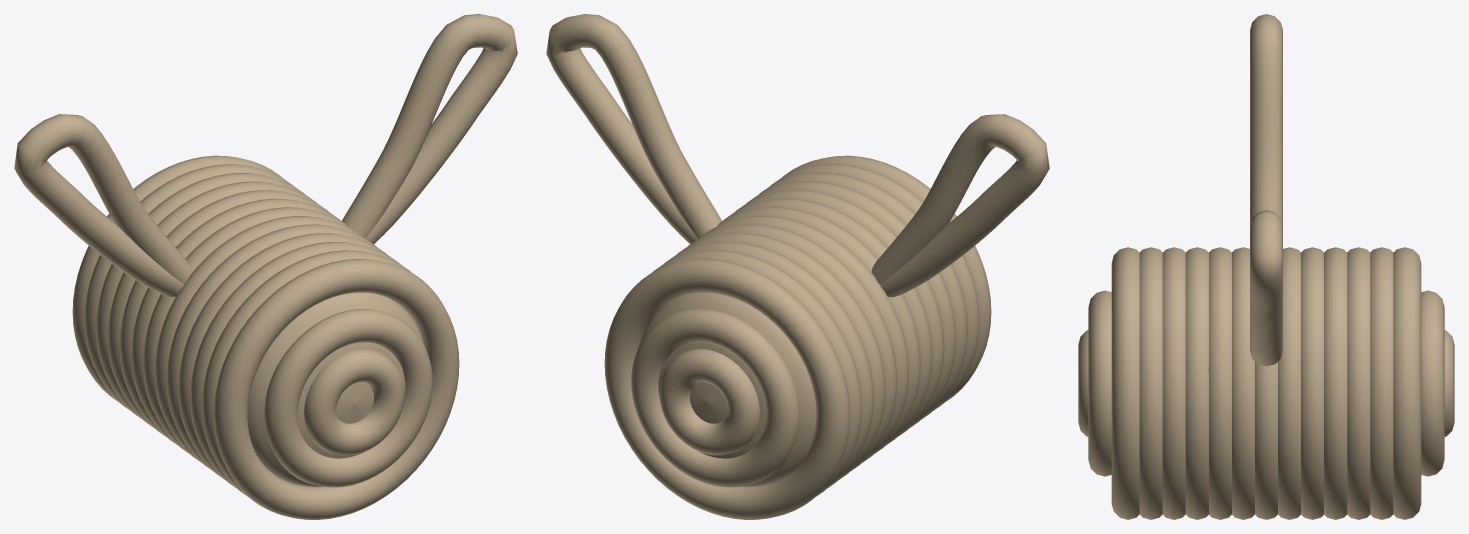
Rendered from canal-boats-and-lock-operations-canal-boats-and-lock-o-af3dea03__31649.glb.
3 renders of one model, left to right at view 1: azimuth 30°, elevation 25°; view 2: azimuth 150°, elevation 25°; view 3: azimuth 270°, elevation 25°, orthographic.
Visible parts, largest first — view 1: canal-boats-and-lock-operations-rope-bow-fender; view 2: canal-boats-and-lock-operations-rope-bow-fender; view 3: canal-boats-and-lock-operations-rope-bow-fender.
Part boxes in pixels (x1,y1,x2,y2): canal-boats-and-lock-operations-rope-bow-fender: (14, 14, 517, 519); canal-boats-and-lock-operations-rope-bow-fender: (546, 14, 1049, 519); canal-boats-and-lock-operations-rope-bow-fender: (1078, 14, 1454, 519).
Bounding box in the file's own units: 0.6122 × 0.4672 × 0.408.
